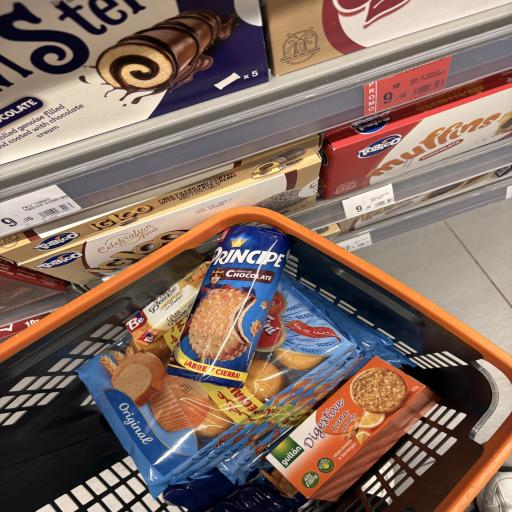prince: (154, 246, 309, 360)
